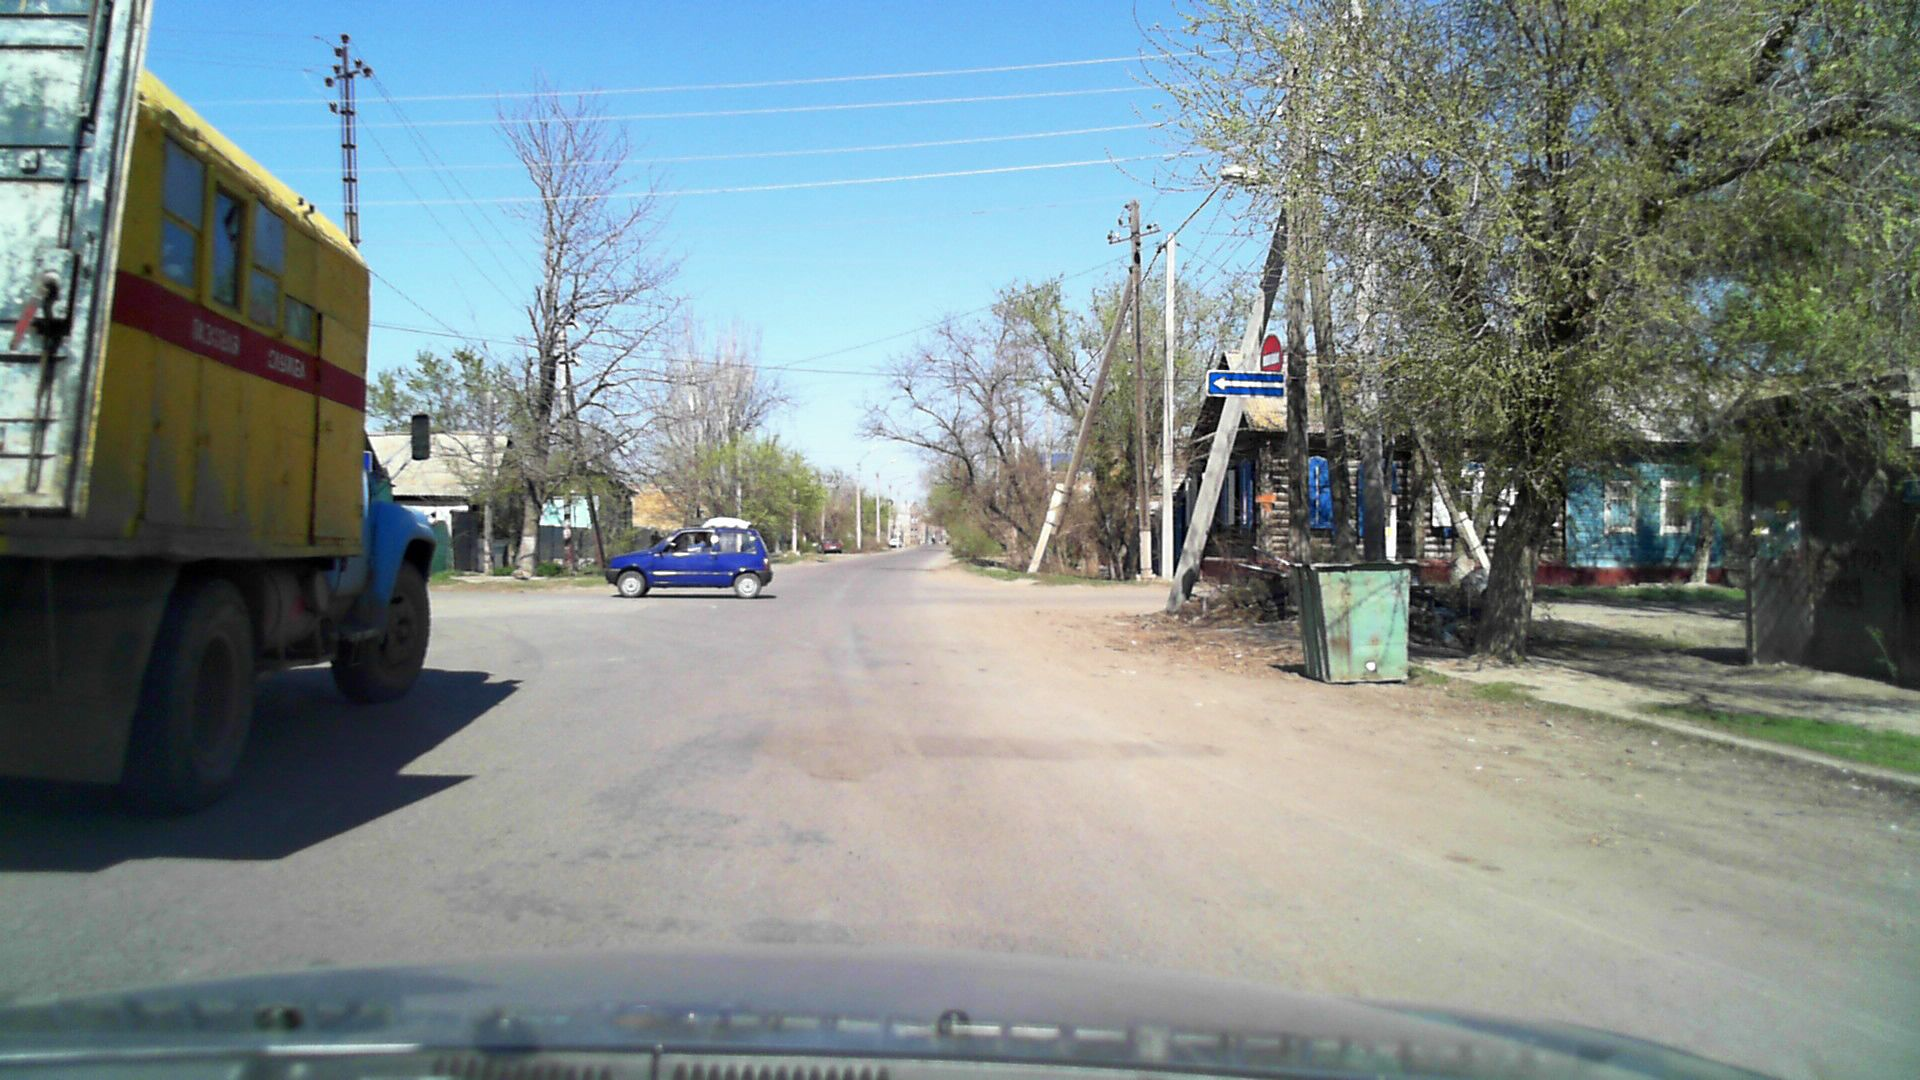One-Way Traffic: (1207, 371, 1284, 396)
